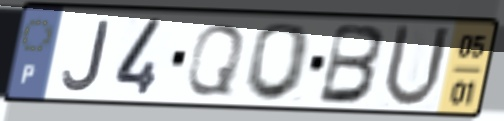4: (110, 14, 167, 101)
B: (314, 21, 389, 107)
J: (60, 18, 111, 93)
O: (241, 21, 316, 104)
Q: (182, 21, 249, 99)
U: (378, 21, 454, 111)
